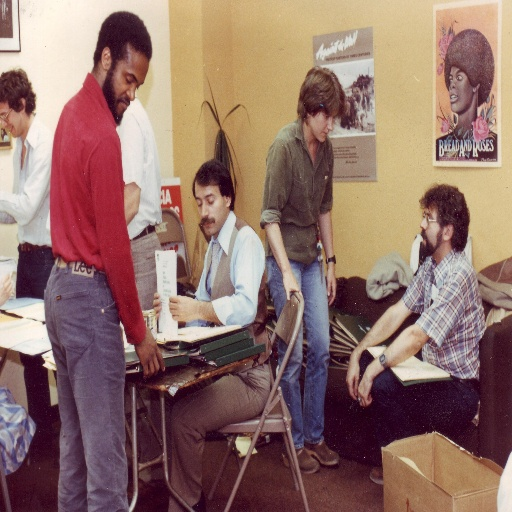hand: (352, 341, 384, 418), (135, 327, 166, 381), (167, 294, 195, 325), (345, 353, 361, 402), (282, 273, 302, 302), (326, 263, 337, 305), (152, 292, 163, 317)
